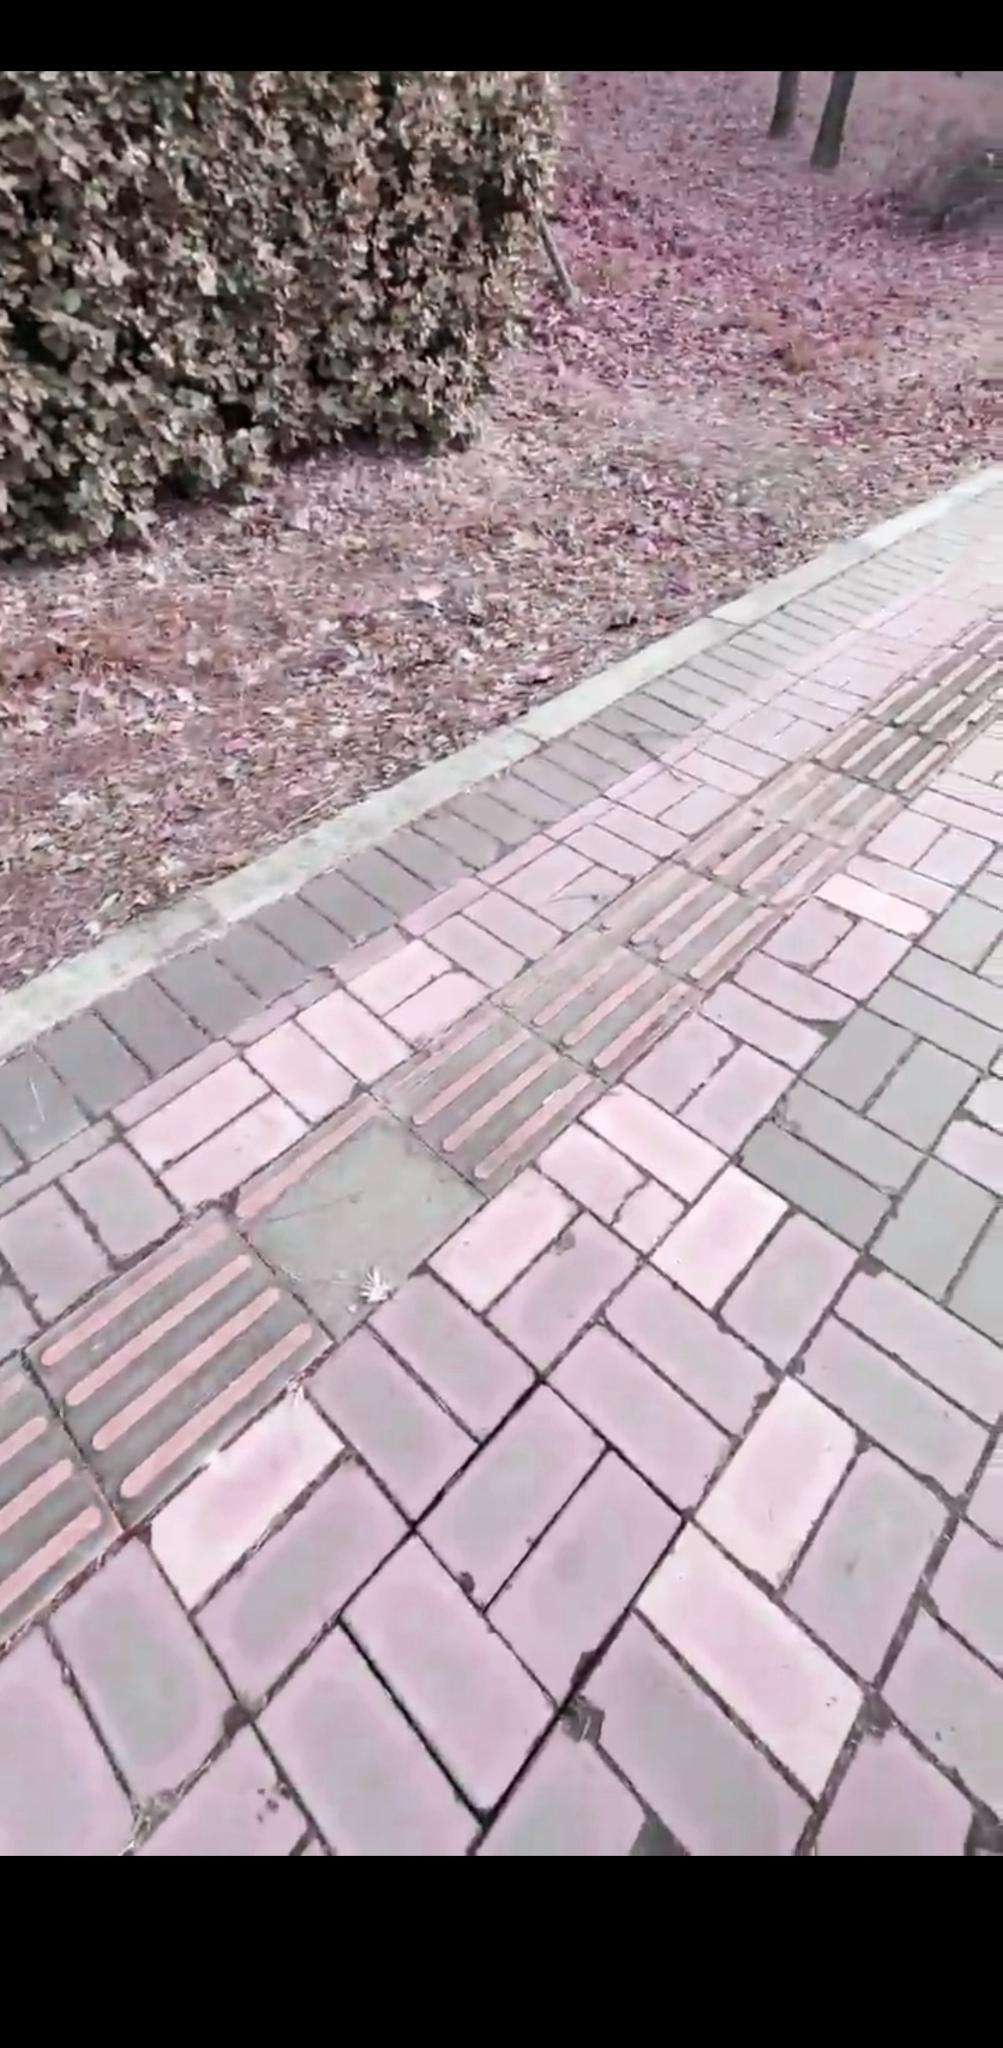Straight block broken: (219, 1092, 486, 1341), (494, 926, 704, 1081)
Straight block normal: (25, 1207, 333, 1529), (372, 1003, 607, 1199), (590, 861, 781, 987)
